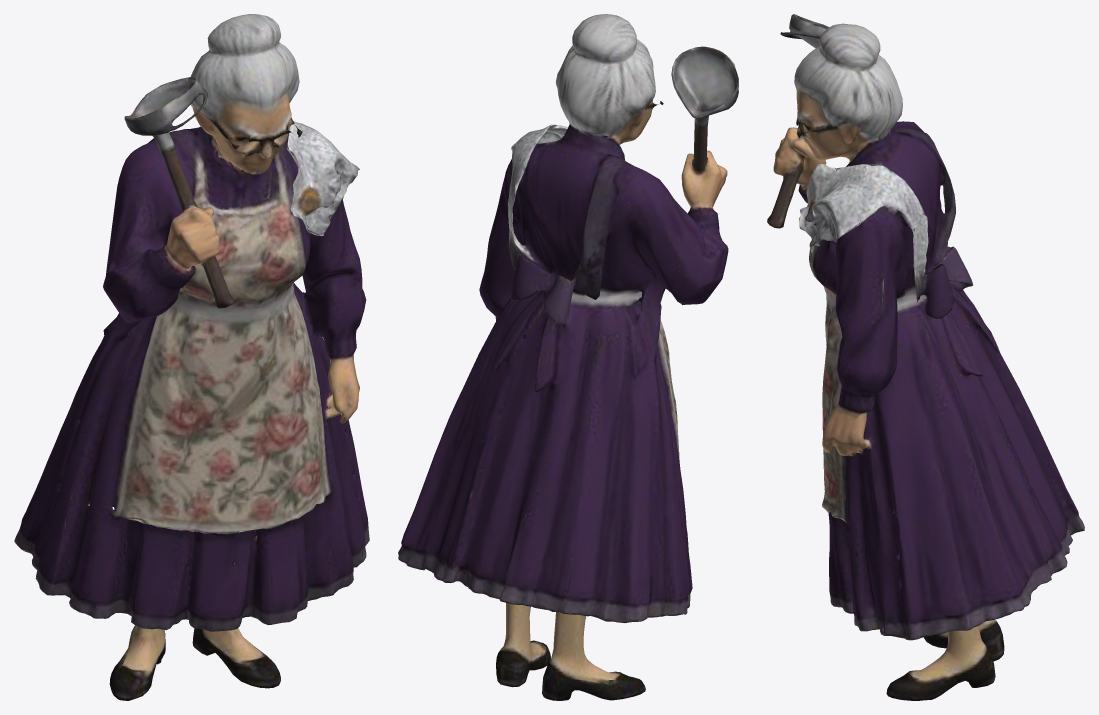
File: hero_agatha.glb
The picture shows the model from 3 angles, left to right: view 1: azimuth 30°, elevation 25°; view 2: azimuth 150°, elevation 25°; view 3: azimuth 270°, elevation 25°; orthographic projection. The views are drawn at different scales.
Bounding box in the file's own units: 0.3942 × 0.8621 × 0.3847.
Materials: 1 (1 with a texture image).
